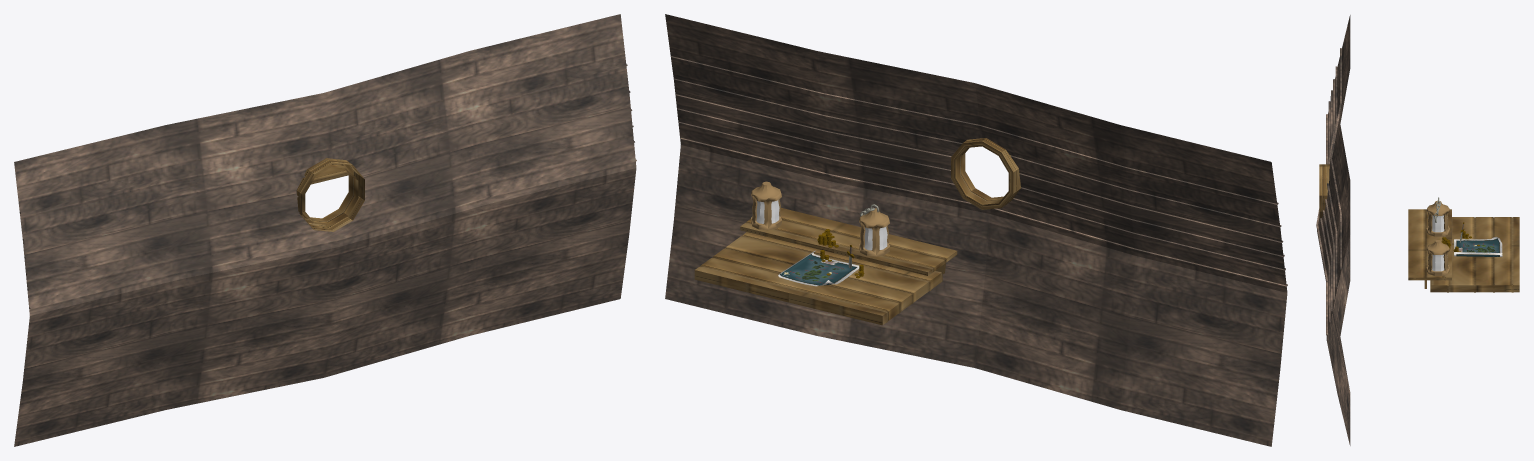
File: MainMenu.glb
3 renders of one model, left to right at view 1: azimuth 30°, elevation 25°; view 2: azimuth 150°, elevation 25°; view 3: azimuth 270°, elevation 25°, orthographic. The views are drawn at different scales.
Visible parts, largest first — view 1: Plane.001, Cylinder.024; view 2: Plane.001, Cube, Cube.003, Cylinder.024, Plane, Cylinder.022, Cylinder.021; view 3: Plane.001, Cube, Cube.003, Plane, Cylinder.022, Cylinder.021, Cylinder.024.
Part boxes in pixels (x1,y1,x2,y2): Plane.001: (14, 14, 636, 446); Cylinder.024: (296, 158, 364, 231); Plane.001: (665, 14, 1287, 446); Cube: (694, 232, 942, 325); Cube.003: (740, 207, 957, 275); Cylinder.024: (951, 138, 1021, 209); Plane: (778, 250, 859, 286); Cylinder.022: (751, 181, 781, 230); Cylinder.021: (859, 208, 889, 256); Plane.001: (1316, 15, 1350, 445); Cube: (1430, 217, 1519, 292); Cube.003: (1408, 209, 1451, 288); Plane: (1454, 237, 1502, 256); Cylinder.022: (1426, 240, 1449, 275); Cylinder.021: (1426, 200, 1449, 236); Cylinder.024: (1319, 164, 1329, 219).
Bounding box in the file's own units: 12.92 × 5.8 × 5.04.
7 materials, 3 textured.
